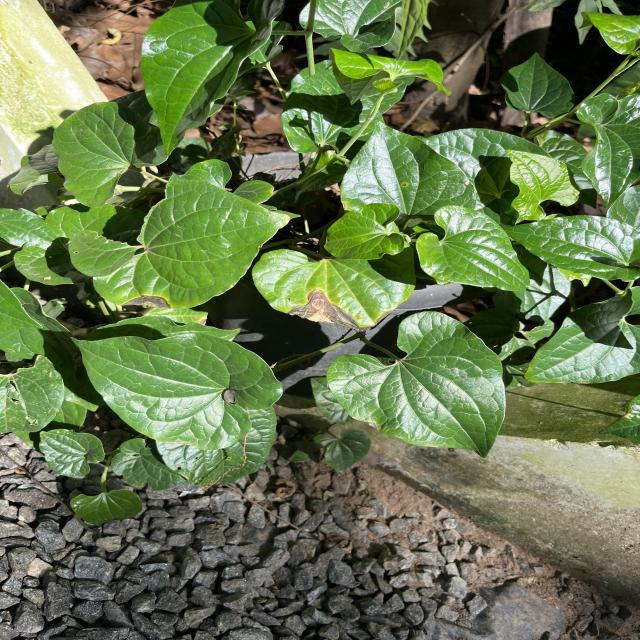Piper longum: (325, 309, 508, 461), (66, 332, 285, 452), (139, 0, 287, 158), (51, 101, 170, 210), (338, 118, 478, 210), (521, 286, 640, 384), (414, 204, 531, 292), (500, 214, 640, 283), (316, 202, 406, 260)
